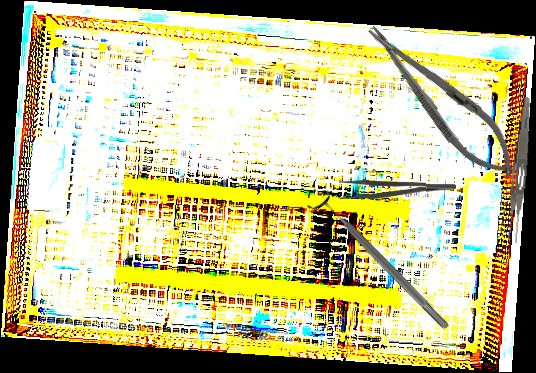Dressing Forceps: (504, 96, 534, 244), (338, 178, 457, 203)
Fixation Ring: (305, 186, 457, 338)
Needle Holder: (354, 10, 530, 191)
